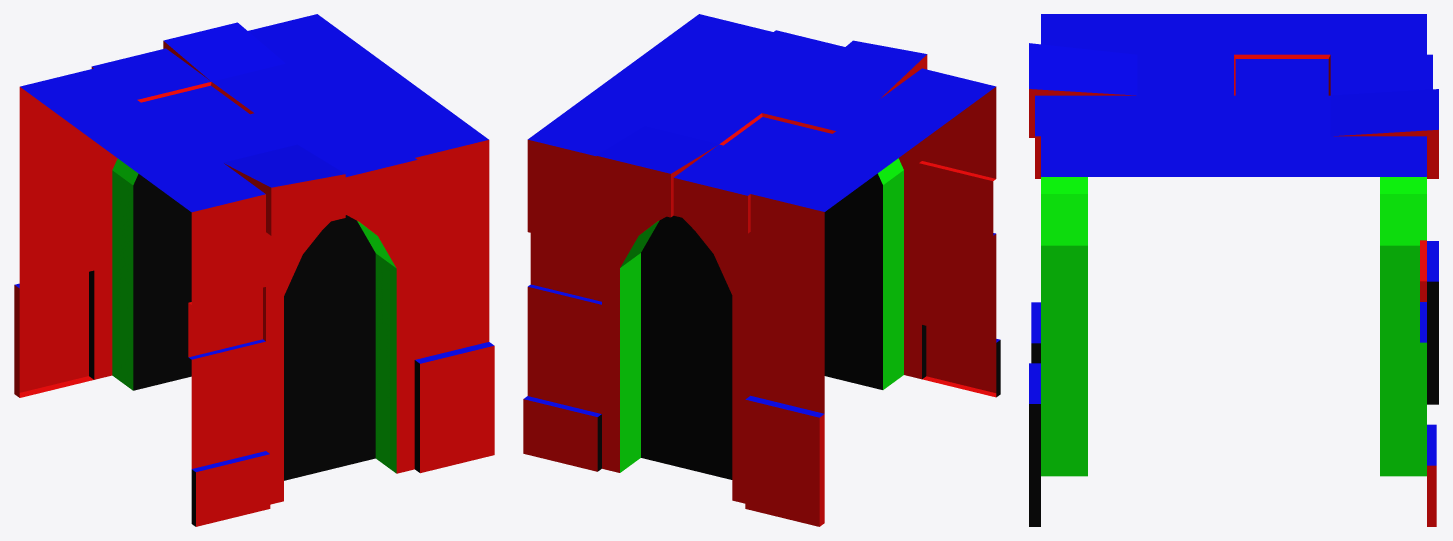
Rendered from Block_IShape_v2.fbx.
3 renders of one model, left to right at view 1: azimuth 30°, elevation 25°; view 2: azimuth 150°, elevation 25°; view 3: azimuth 270°, elevation 25°, orthographic. The views are drawn at different scales.
Visible parts, largest first — view 1: Cube.030; view 2: Cube.030; view 3: Cube.030.
Part boxes in pixels (x1,y1,x2,y2): Cube.030: [14, 14, 494, 526]; Cube.030: [523, 14, 1000, 526]; Cube.030: [1029, 14, 1438, 526].
Size of the model in its own units: 100 by 103 by 106.
